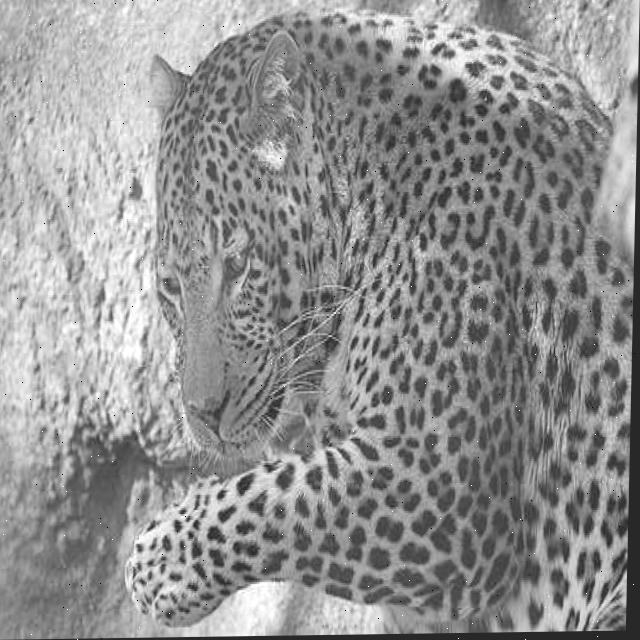Leopard: (121, 0, 638, 634)
